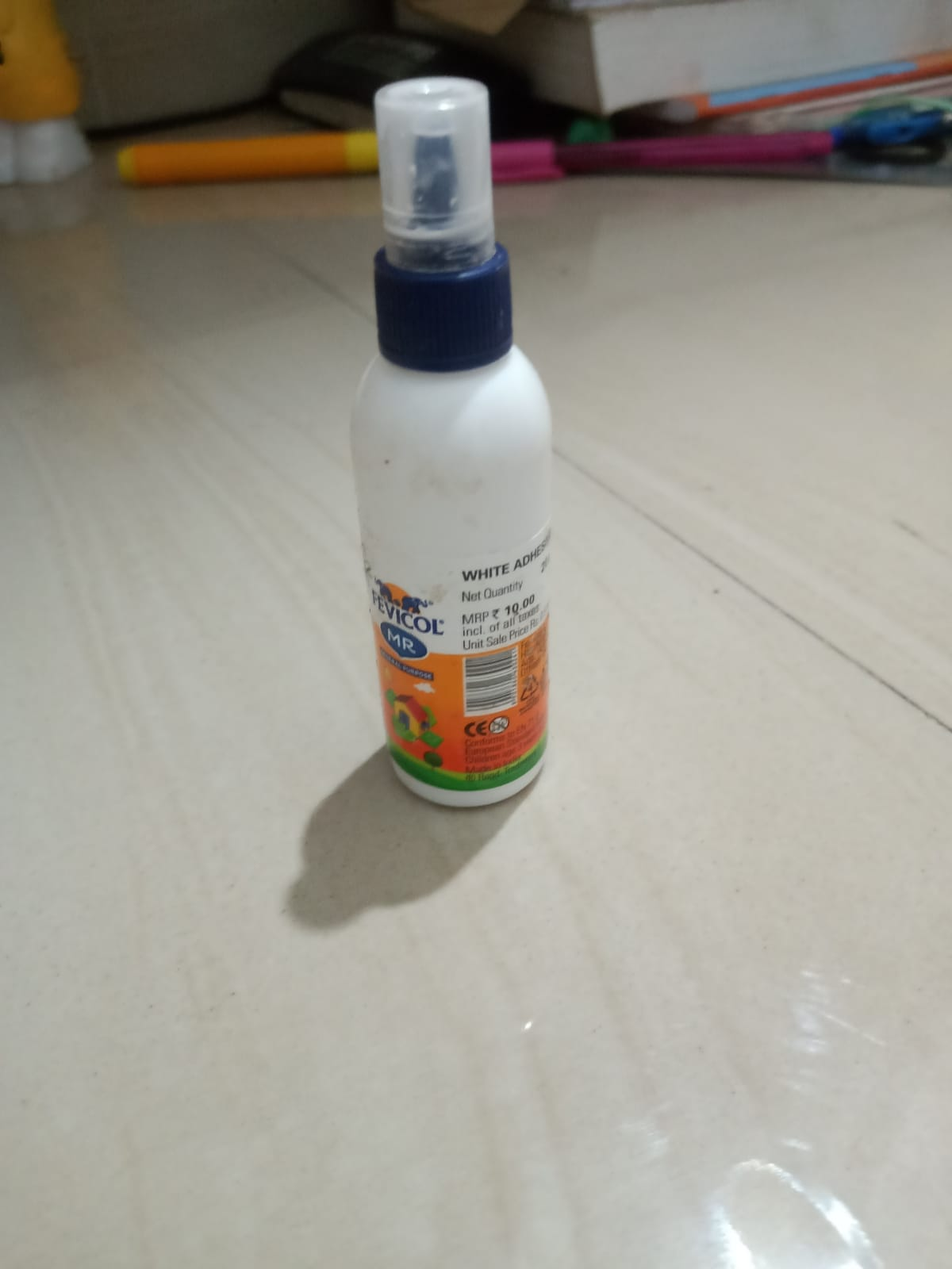plastic: (254, 82, 676, 1136)
